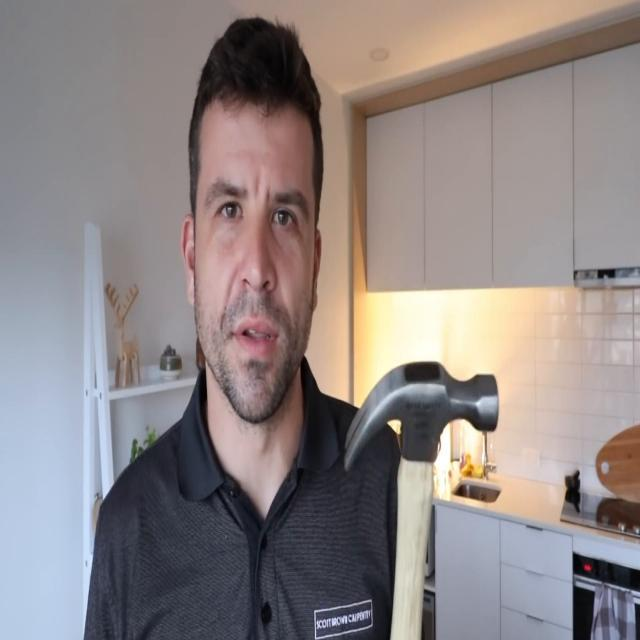hammer: (341, 357, 500, 638)
